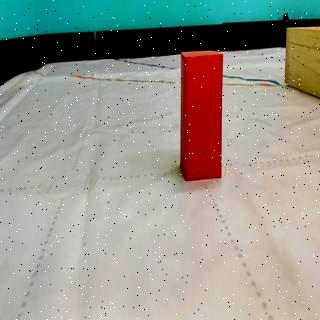redbox: (180, 50, 223, 180)
